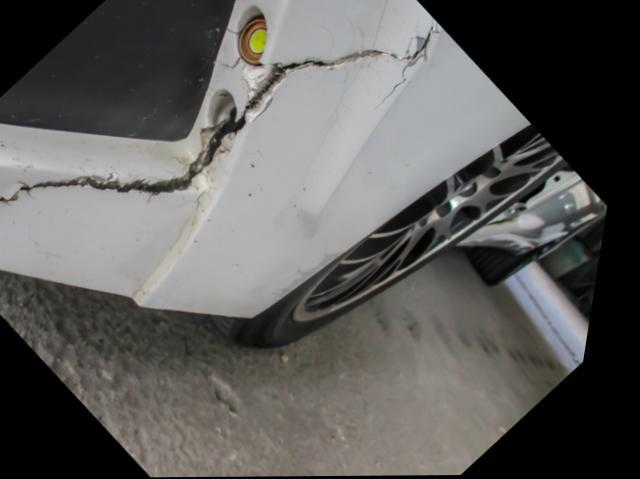crack: (0, 20, 442, 206)
